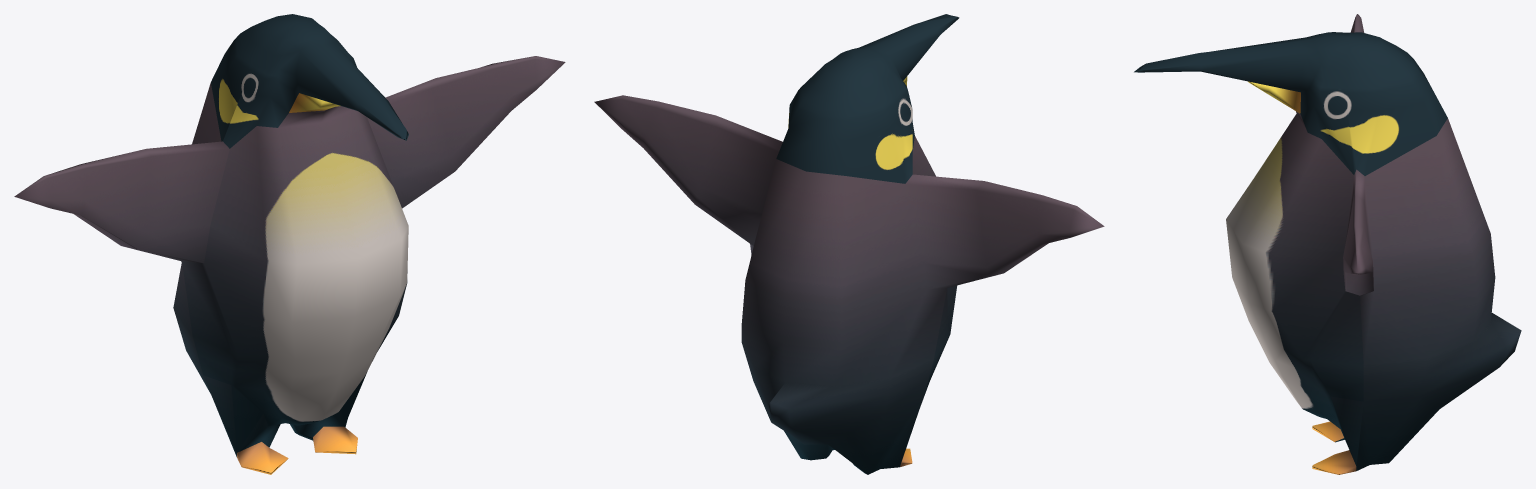
Rendered from adultpeng.fbx.
The picture shows the model from 3 angles, left to right: view 1: azimuth 30°, elevation 25°; view 2: azimuth 150°, elevation 25°; view 3: azimuth 270°, elevation 25°; orthographic projection. The views are drawn at different scales.
Visible parts, largest first — view 1: pSphere3; view 2: pSphere3; view 3: pSphere3.
Part boxes in pixels (x1,y1,x2,y2): pSphere3: (14,14,565,474); pSphere3: (594,14,1104,474); pSphere3: (1134,14,1521,474).
Size of the model in its own units: 4.65 by 3.46 by 2.95.
Materials: 1 (1 with a texture image).
